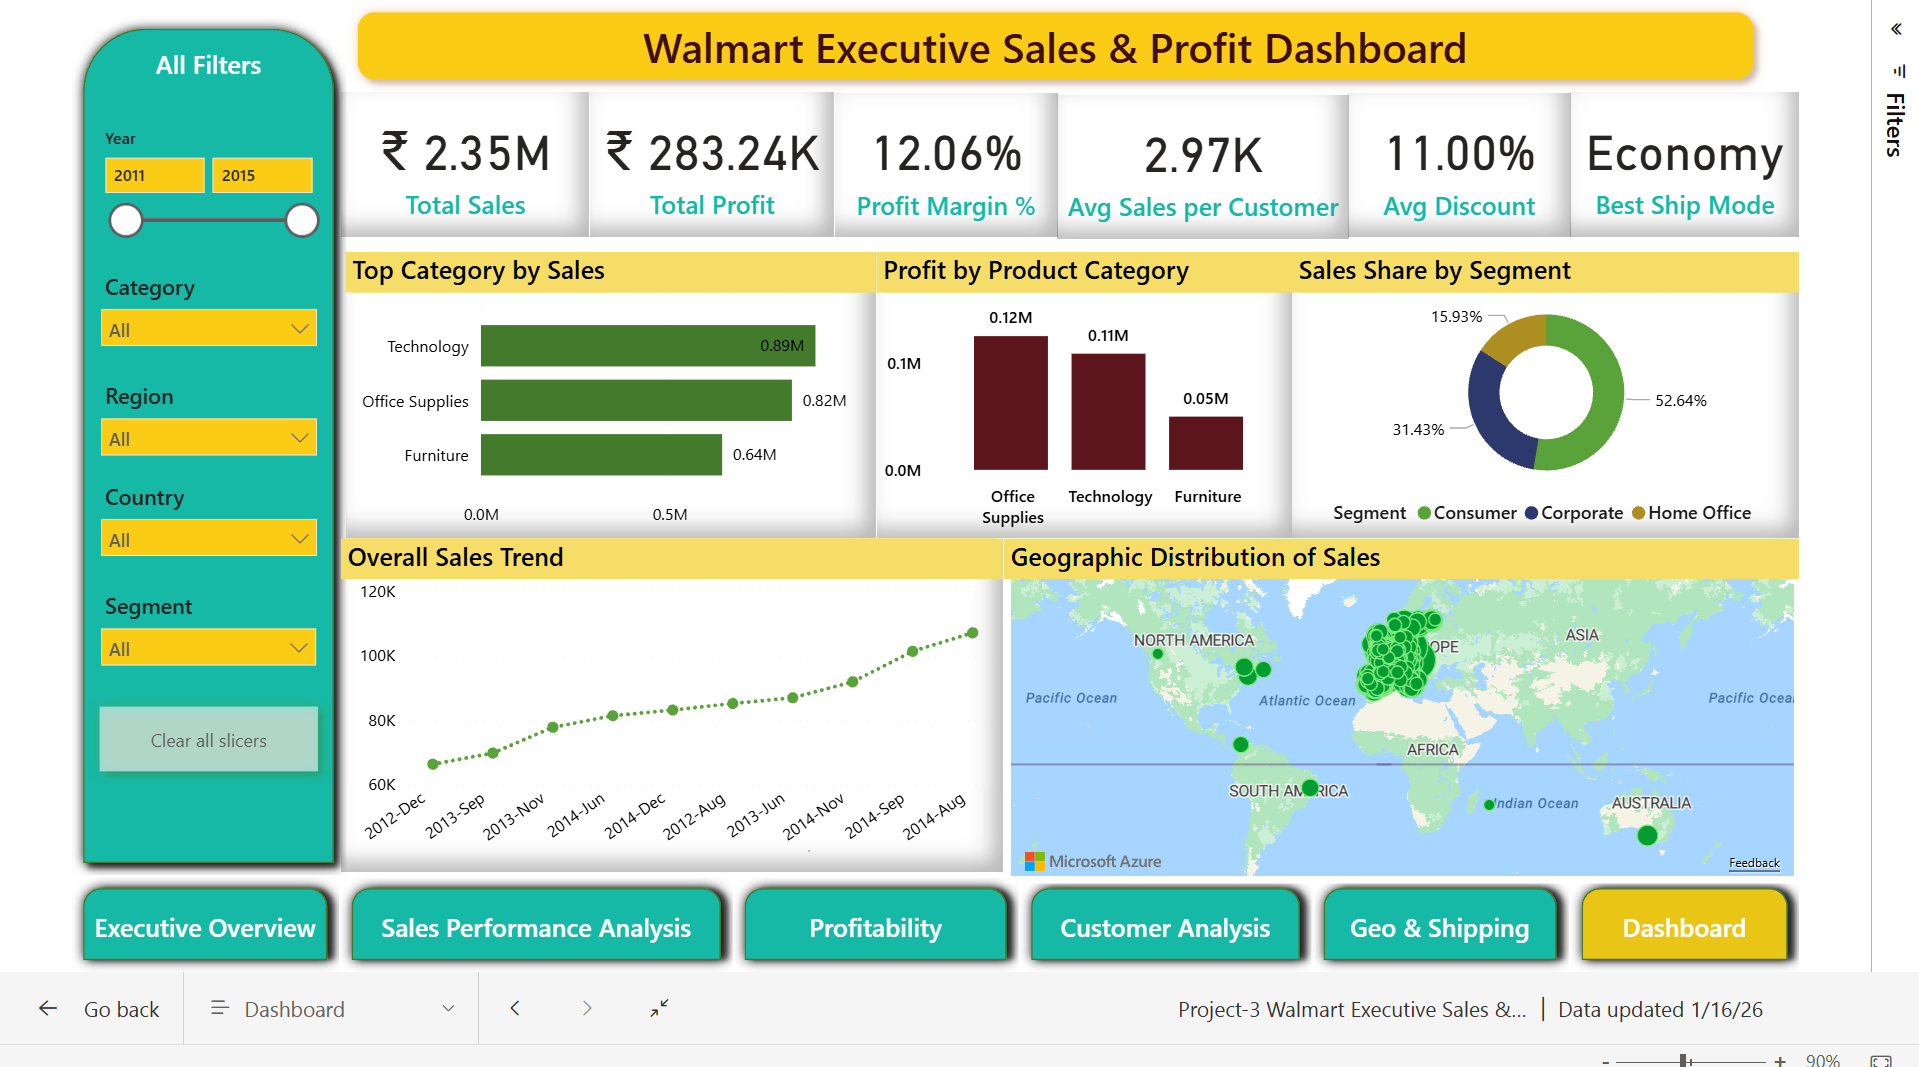

What the dashboard file says about the page in this screenshot:
{"tool":"powerbi","page":{"name":"Dashboard","canvas":[1280,720],"ordinal":5},"visuals":[{"type":"shape","box":[0,12.3,203.7,636.1],"z":0,"group":"g1"},{"type":"group","id":"g1","title":"Group 1","box":[0,12.3,203.7,637.9],"z":0,"group":"g2"},{"type":"shape","box":[0,649.3,198.8,71.2],"z":0},{"type":"slicer","fields":{"Values":["Dim_Date.Year"]},"box":[11.9,88.8,180,97.3],"z":1000,"group":"g1"},{"type":"slicer","fields":{"Values":["Dim_Customer.Segment"]},"box":[12.3,432.1,179,94.7],"z":1000,"group":"g2"},{"type":"shape","box":[198.8,649.3,291.5,71.2],"z":1000},{"type":"slicer","fields":{"Values":["Dim_Product.Category"]},"box":[12.3,195.8,179.7,89.2],"z":2000,"group":"g1"},{"type":"shape","box":[490.3,649.3,212,71.2],"z":2000},{"type":"slicer","fields":{"Values":["Dim_Customer.Region"]},"box":[12.3,276.6,179.7,85],"z":3000,"group":"g1"},{"type":"shape","box":[702.3,649.3,217,71.2],"z":3000},{"type":"slicer","fields":{"Values":["Dim_Customer.Country"]},"box":[12.3,350.9,179.7,87.1],"z":4000,"group":"g1"},{"type":"shape","box":[919.3,649.3,190.5,71.2],"z":4000},{"type":"actionButton","box":[12.3,514.6,179.7,65.9],"z":5000,"group":"g1"},{"type":"shape","box":[1109.8,649.3,170.6,71.2],"z":5000},{"type":"group","id":"g2","title":"Group 2","box":[0,12.3,203.7,637.9],"z":6000},{"type":"card","fields":{"Values":["Fact_Sales.Total Sales"]},"box":[200.4,67.9,183.9,107.7],"z":6001},{"type":"card","fields":{"Values":["Fact_Sales.Total Profit"]},"box":[384.3,67.9,180.6,107.7],"z":6002},{"type":"card","fields":{"Values":["Fact_Sales.Profit Margin %"]},"box":[565,68.3,165,106.7],"z":6003},{"type":"card","fields":{"Values":["Fact_Sales.Avg Sales per Customer"]},"box":[730,70,216.7,106.7],"z":6004},{"type":"lineChart","title":"Overall Sales Trend","fields":{"Category":["Dim_Date.Year-Month"],"Y":["Fact_Sales.Total Sales"]},"box":[200.4,399.2,490.3,246.8],"z":6005},{"type":"clusteredBarChart","title":"Top Category by Sales","fields":{"Category":["Dim_Product.Category"],"Y":["Fact_Sales.Total Sales"]},"box":[203.7,187.2,392.6,212],"z":6006},{"type":"donutChart","title":"Sales Share by Segment","fields":{"Category":["Dim_Customer.Segment"],"Y":["Fact_Sales.Total Sales"]},"box":[904.4,187.2,376,212],"z":6007},{"type":"map","title":"Geographic Distribution of Sales","fields":{"Category":["Dim_Customer.State","Dim_Customer.City"],"Size":["Fact_Sales.Total Sales"]},"box":[690.8,399.2,589.7,255.1],"z":6008},{"type":"shape","box":[203.7,0,1051.9,67.9],"z":6009},{"type":"clusteredColumnChart","title":"Profit by Product Category","fields":{"Category":["Fact_Sales.Category"],"Y":["Fact_Sales.Total Profit"]},"box":[596.3,187.2,308.1,212],"z":6010},{"type":"card","fields":{"Values":["Fact_Sales.Avg Discount"]},"box":[945,68.3,165,106.7],"z":6011},{"type":"card","fields":{"Values":["Fact_Sales.Best Ship Mode"]},"box":[1109.8,67.9,170.6,107.7],"z":6012}]}

Visuals, with their boxes on the page's 1280x720 design canvas (x1, y1, x2, y2). These are canvas units, not pixel positions in the 1919x1067 screenshot, which may show the page scaled, cropped or inside an application window:
shape: box(0, 12, 204, 648)
"Group 1" group: box(0, 12, 204, 650)
shape: box(0, 649, 199, 720)
slicer - Dim_Date.Year: box(12, 89, 192, 186)
slicer - Dim_Customer.Segment: box(12, 432, 191, 527)
shape: box(199, 649, 490, 720)
slicer - Dim_Product.Category: box(12, 196, 192, 285)
shape: box(490, 649, 702, 720)
slicer - Dim_Customer.Region: box(12, 277, 192, 362)
shape: box(702, 649, 919, 720)
slicer - Dim_Customer.Country: box(12, 351, 192, 438)
shape: box(919, 649, 1110, 720)
actionButton: box(12, 515, 192, 580)
shape: box(1110, 649, 1280, 720)
"Group 2" group: box(0, 12, 204, 650)
card - Fact_Sales.Total Sales: box(200, 68, 384, 176)
card - Fact_Sales.Total Profit: box(384, 68, 565, 176)
card - Fact_Sales.Profit Margin %: box(565, 68, 730, 175)
card - Fact_Sales.Avg Sales per Customer: box(730, 70, 947, 177)
"Overall Sales Trend" lineChart: box(200, 399, 691, 646)
"Top Category by Sales" clusteredBarChart: box(204, 187, 596, 399)
"Sales Share by Segment" donutChart: box(904, 187, 1280, 399)
"Geographic Distribution of Sales" map: box(691, 399, 1280, 654)
shape: box(204, 0, 1256, 68)
"Profit by Product Category" clusteredColumnChart: box(596, 187, 904, 399)
card - Fact_Sales.Avg Discount: box(945, 68, 1110, 175)
card - Fact_Sales.Best Ship Mode: box(1110, 68, 1280, 176)
